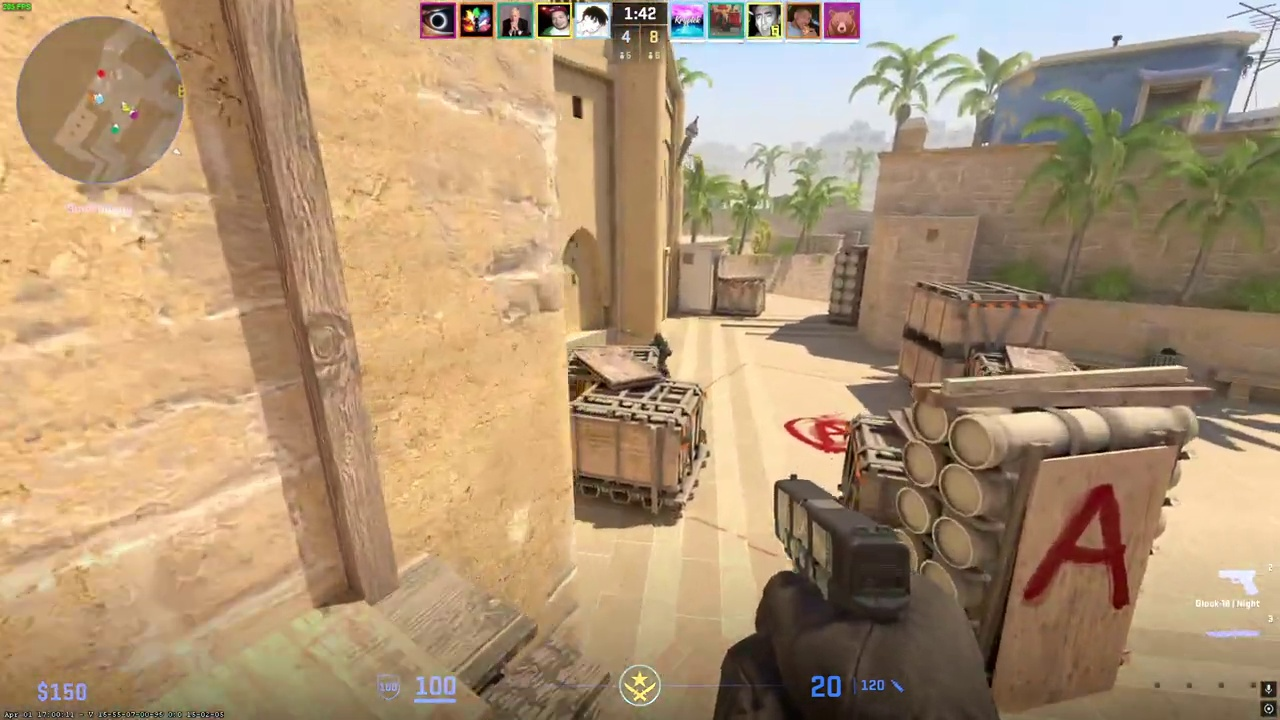CT: (651, 332, 673, 377)
